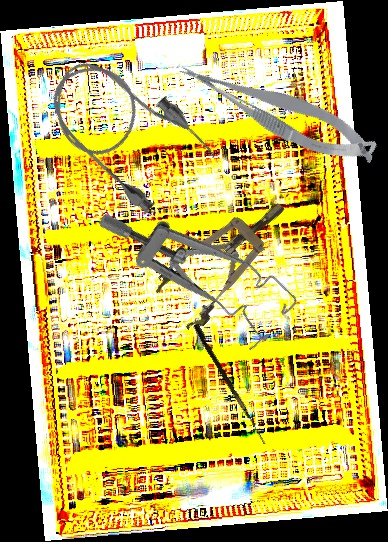Cannula: (29, 35, 224, 224)
Hook Surgical: (191, 323, 271, 445)
Micro Scissor: (174, 37, 383, 183)
Speculum: (94, 160, 304, 368), (148, 182, 305, 336)
